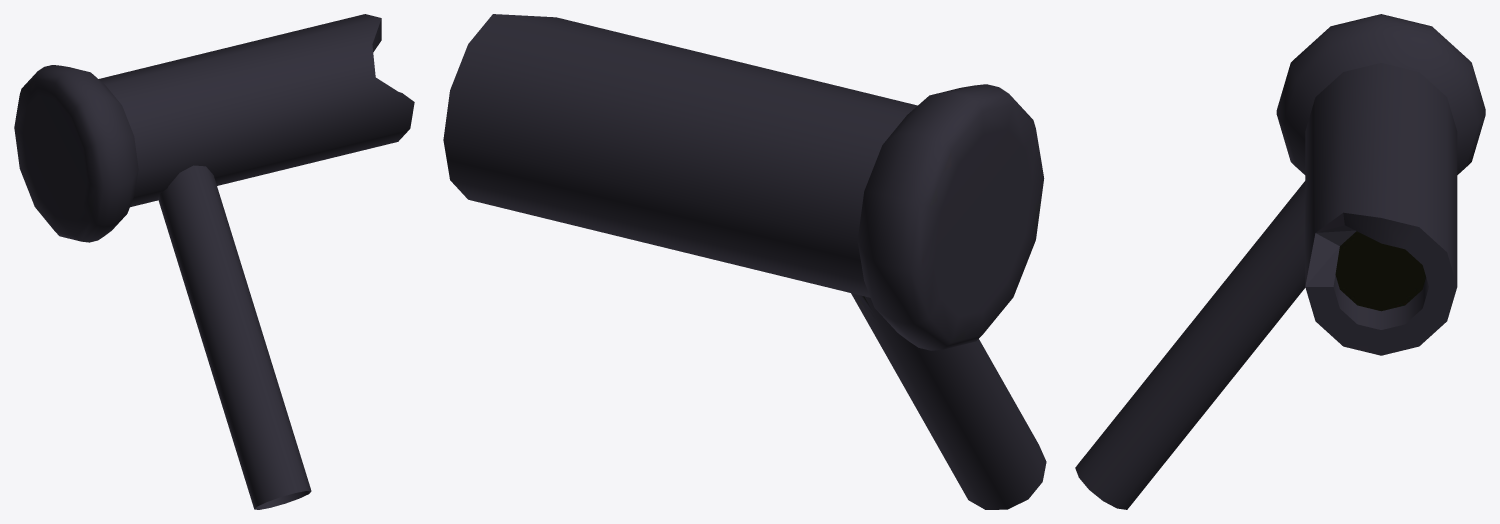
File: Assist_jixiebi01_huai.FBX
3 views of the same model, side by side, from view 1: azimuth 30°, elevation 25°; view 2: azimuth 150°, elevation 25°; view 3: azimuth 270°, elevation 25° (orthographic). The views are drawn at different scales.
Visible parts, largest first — view 1: Assist_jixiebi01_huai; view 2: Assist_jixiebi01_huai; view 3: Assist_jixiebi01_huai.
Boxes of the visible parts, x1,y1,x2,y2 form: Assist_jixiebi01_huai: (14,14,414,509); Assist_jixiebi01_huai: (443,14,1046,509); Assist_jixiebi01_huai: (1075,14,1485,509).
Size of the model in its own units: 1.6 by 1.78 by 1.52.
Materials: 1 (1 with a texture image).
